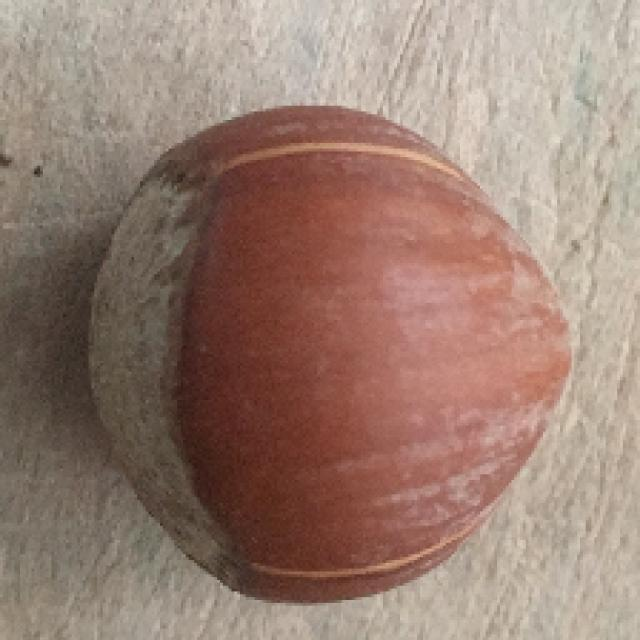qualityHazelnut: (93, 104, 574, 606)
